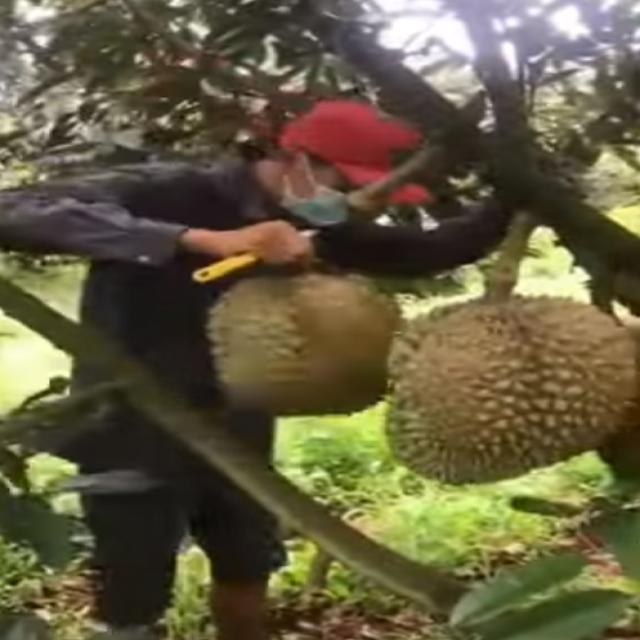mature: (366, 291, 640, 491), (209, 264, 393, 420)
